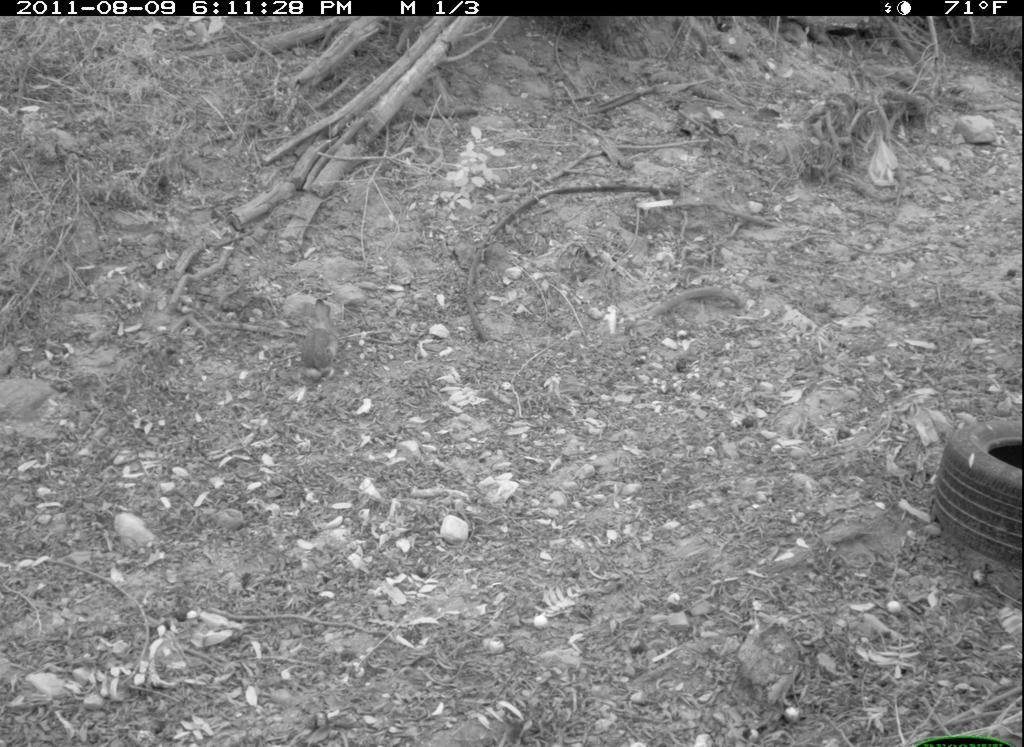rabbit: (300, 299, 355, 379)
